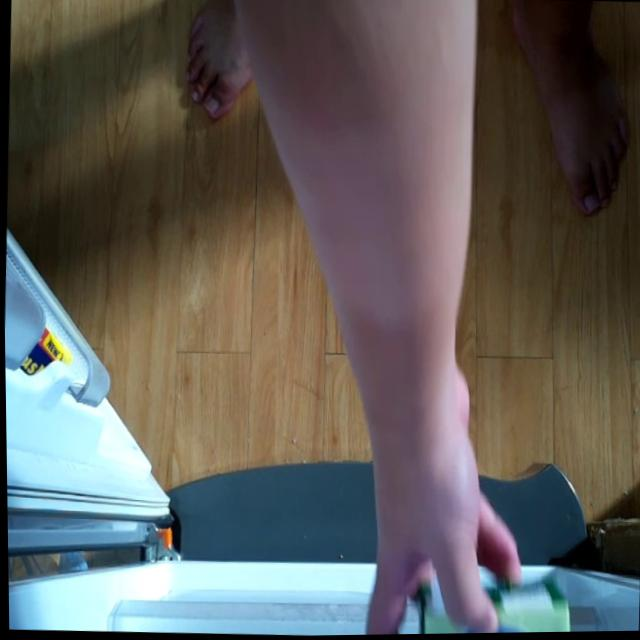milk: (414, 570, 569, 635)
